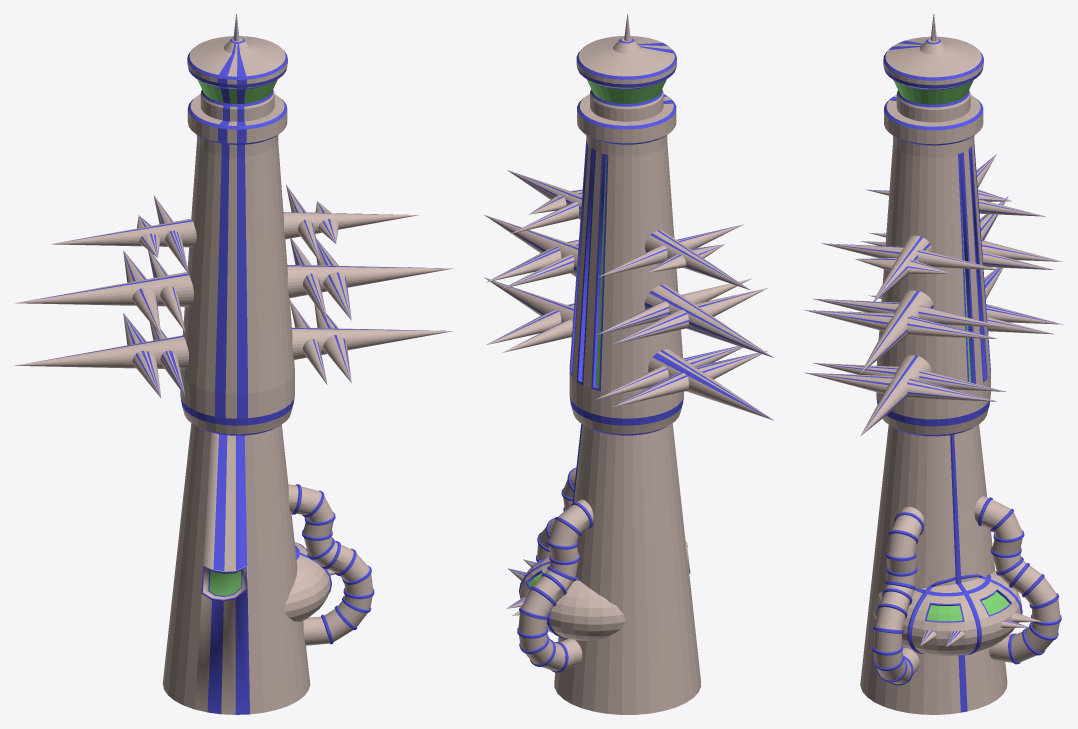
Rendered from Accumulateur_L.fbx.
3 renders of one model, left to right at view 1: azimuth 30°, elevation 25°; view 2: azimuth 150°, elevation 25°; view 3: azimuth 270°, elevation 25°, orthographic.
Parts seen in each view (by area): view 1: Cone.004; view 2: Cone.004; view 3: Cone.004.
Part boxes in pixels (box(x1,y1,x2,y2)): Cone.004: box(15, 14, 453, 714); Cone.004: box(484, 14, 773, 714); Cone.004: box(804, 14, 1062, 714).
Size of the model in its own units: 1040 by 1820 by 641.
